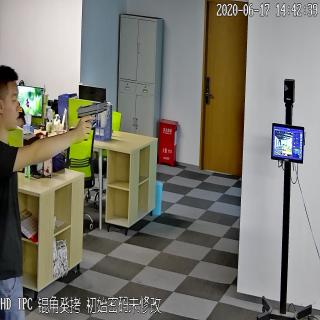gun: (74, 95, 110, 146)
